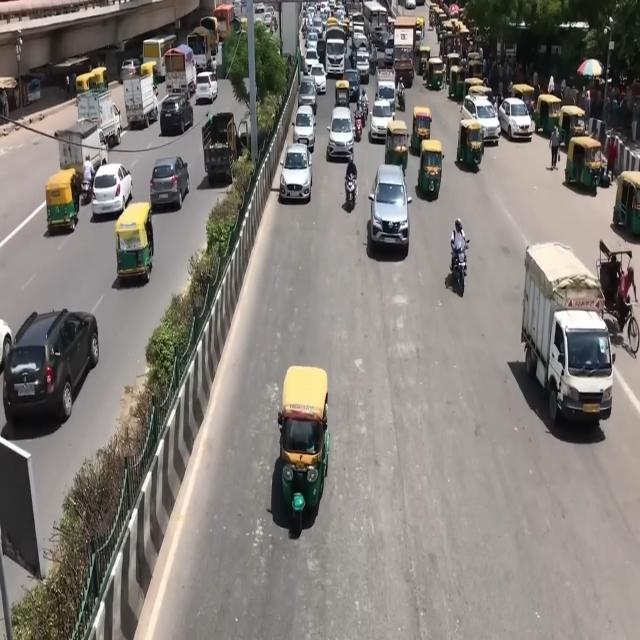auto: (272, 357, 342, 537), (115, 200, 154, 280), (45, 168, 81, 234), (565, 135, 604, 193), (612, 170, 640, 237), (457, 116, 484, 172), (418, 138, 443, 198), (558, 104, 587, 150), (534, 92, 562, 138), (385, 118, 409, 171), (187, 28, 213, 76), (412, 105, 432, 154), (510, 82, 536, 119), (425, 55, 445, 92), (140, 61, 158, 92), (89, 66, 109, 92), (334, 79, 350, 108)
bike-auto: (616, 266, 638, 332), (450, 218, 467, 272), (344, 157, 358, 206), (82, 154, 94, 197), (396, 78, 406, 108)
